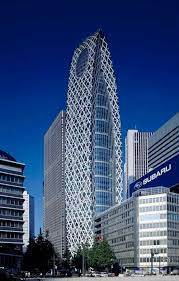high_rise_building: (36, 26, 124, 260)
